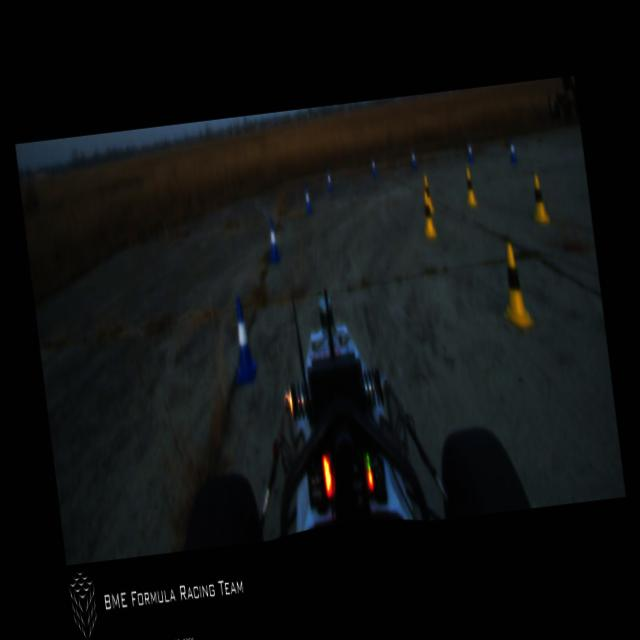blue_cone: (225, 297, 258, 385), (266, 217, 281, 262), (302, 184, 312, 217), (324, 168, 334, 194), (508, 138, 518, 163), (466, 138, 474, 161), (370, 156, 378, 178), (410, 148, 418, 170)
yellow_cone: (497, 241, 532, 328), (528, 174, 550, 222), (421, 190, 436, 237), (463, 167, 478, 205), (422, 174, 434, 213)
